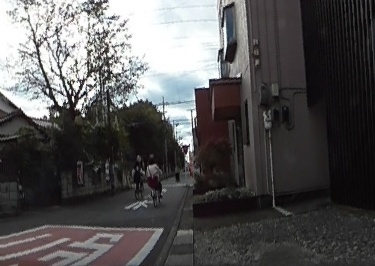person: (147, 155, 160, 205), (131, 154, 144, 197)
